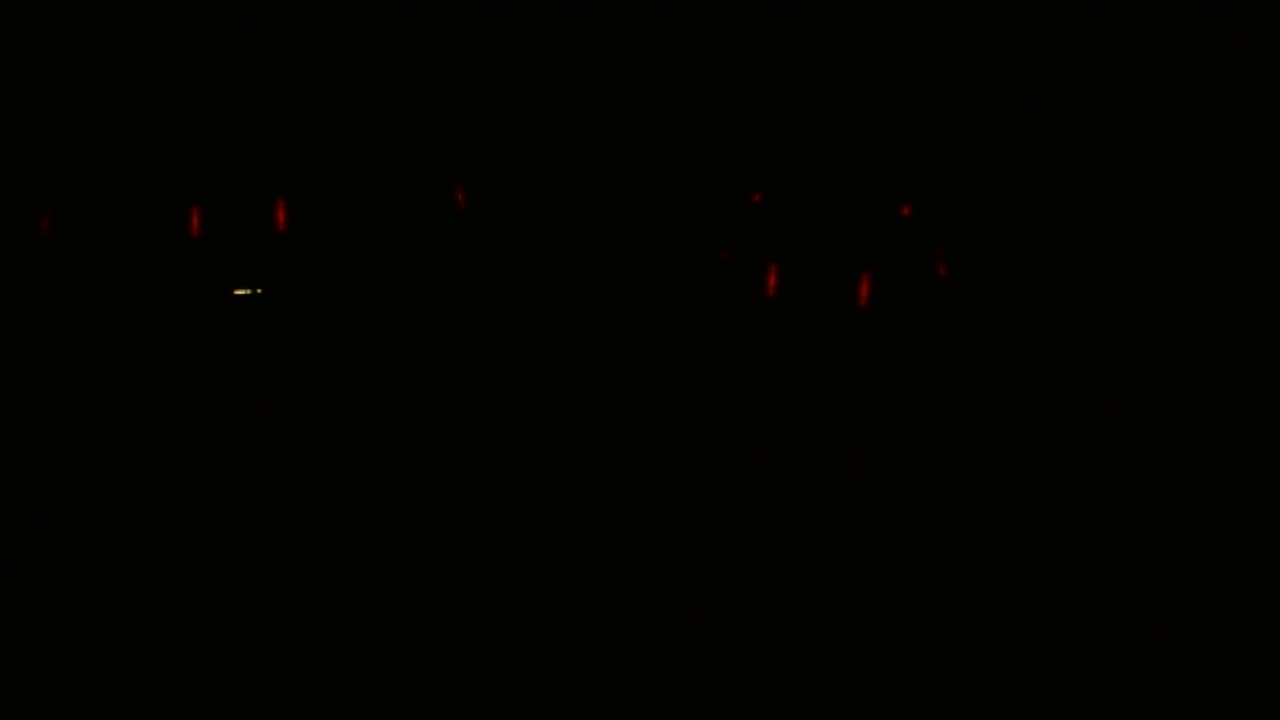pair1: (177, 191, 305, 251)
pair2: (750, 258, 879, 317)
